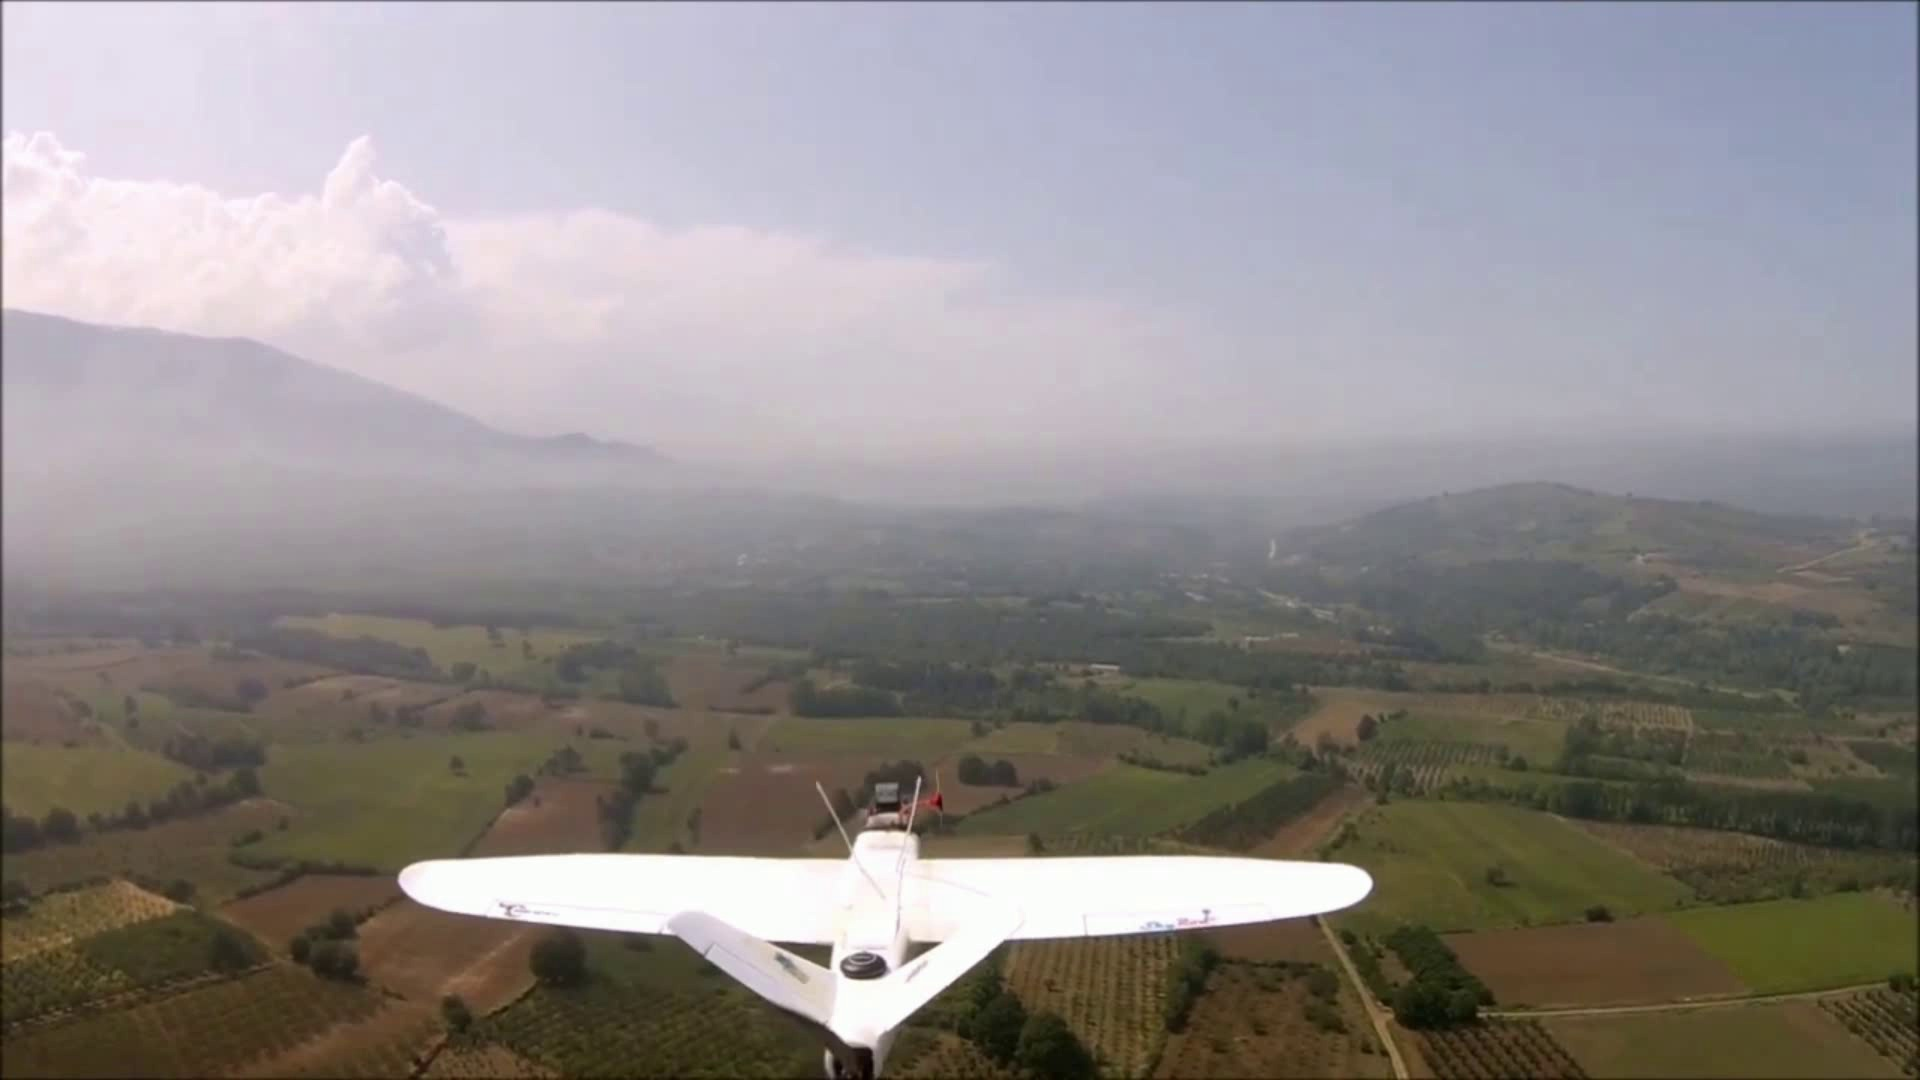airplane: (393, 763, 1374, 1069)
